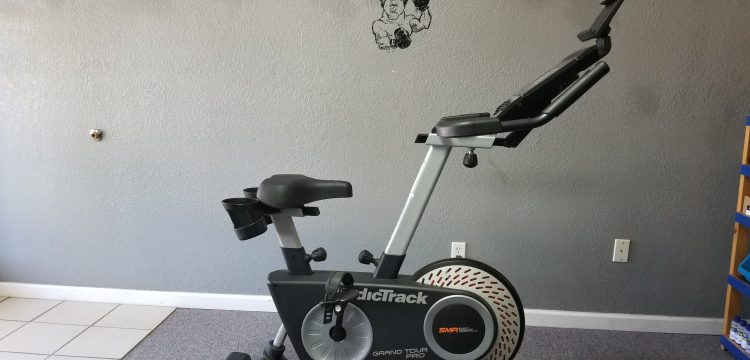gym_bike: (183, 1, 647, 355)
